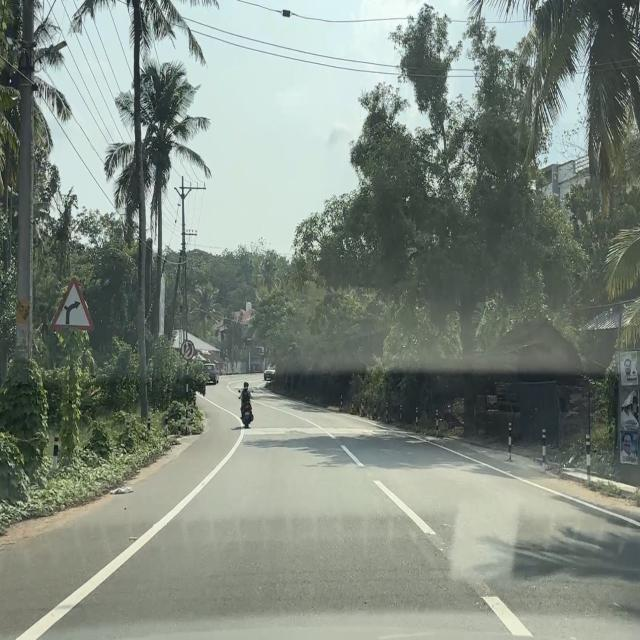OVERTAKING_PROHIBITED: (180, 340, 195, 361)
RIGHT_TURN_AHEAD: (50, 276, 95, 332)
